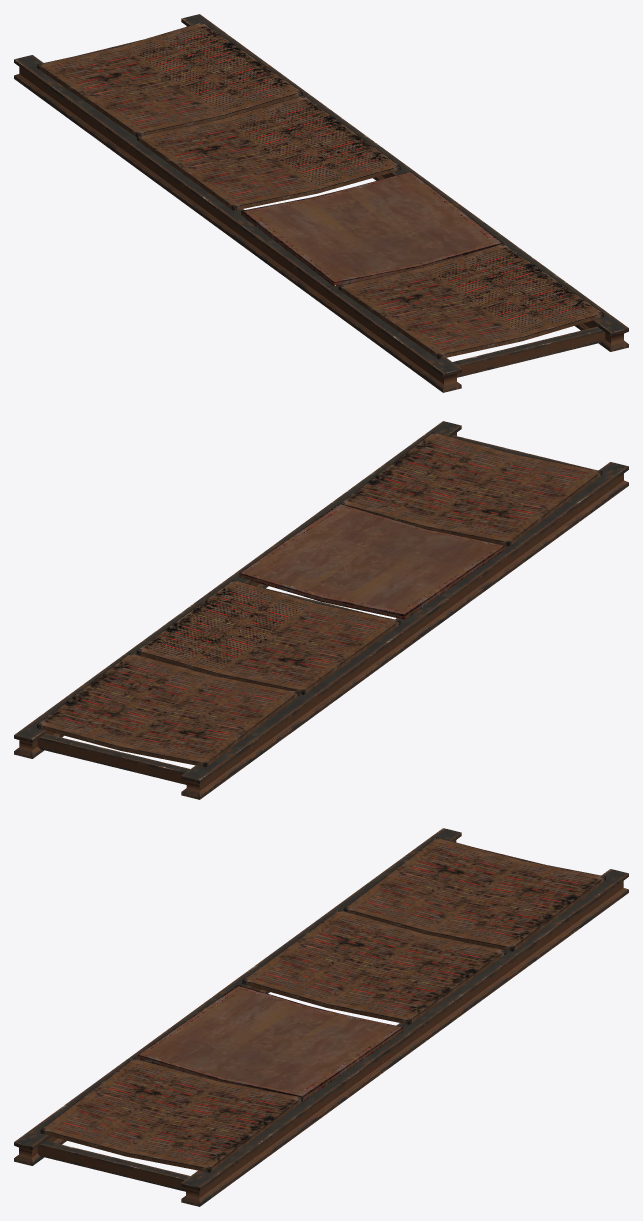
Rendered from spheretank_walkway_e.glb.
3 renders of one model, top to bottom at view 1: azimuth 30°, elevation 25°; view 2: azimuth 150°, elevation 25°; view 3: azimuth 330°, elevation 25°, orthographic.
Parts seen in each view (by area): view 1: spheretank_walkway_e_LOD0; view 2: spheretank_walkway_e_LOD0; view 3: spheretank_walkway_e_LOD0.
Part boxes in pixels (x1,y1,x2,y2): spheretank_walkway_e_LOD0: (14,14,628,392); spheretank_walkway_e_LOD0: (14,421,628,799); spheretank_walkway_e_LOD0: (14,828,628,1206).
Bounding box in the file's own units: 2.5 × 0.3029 × 10.
4 materials, 4 textured.
